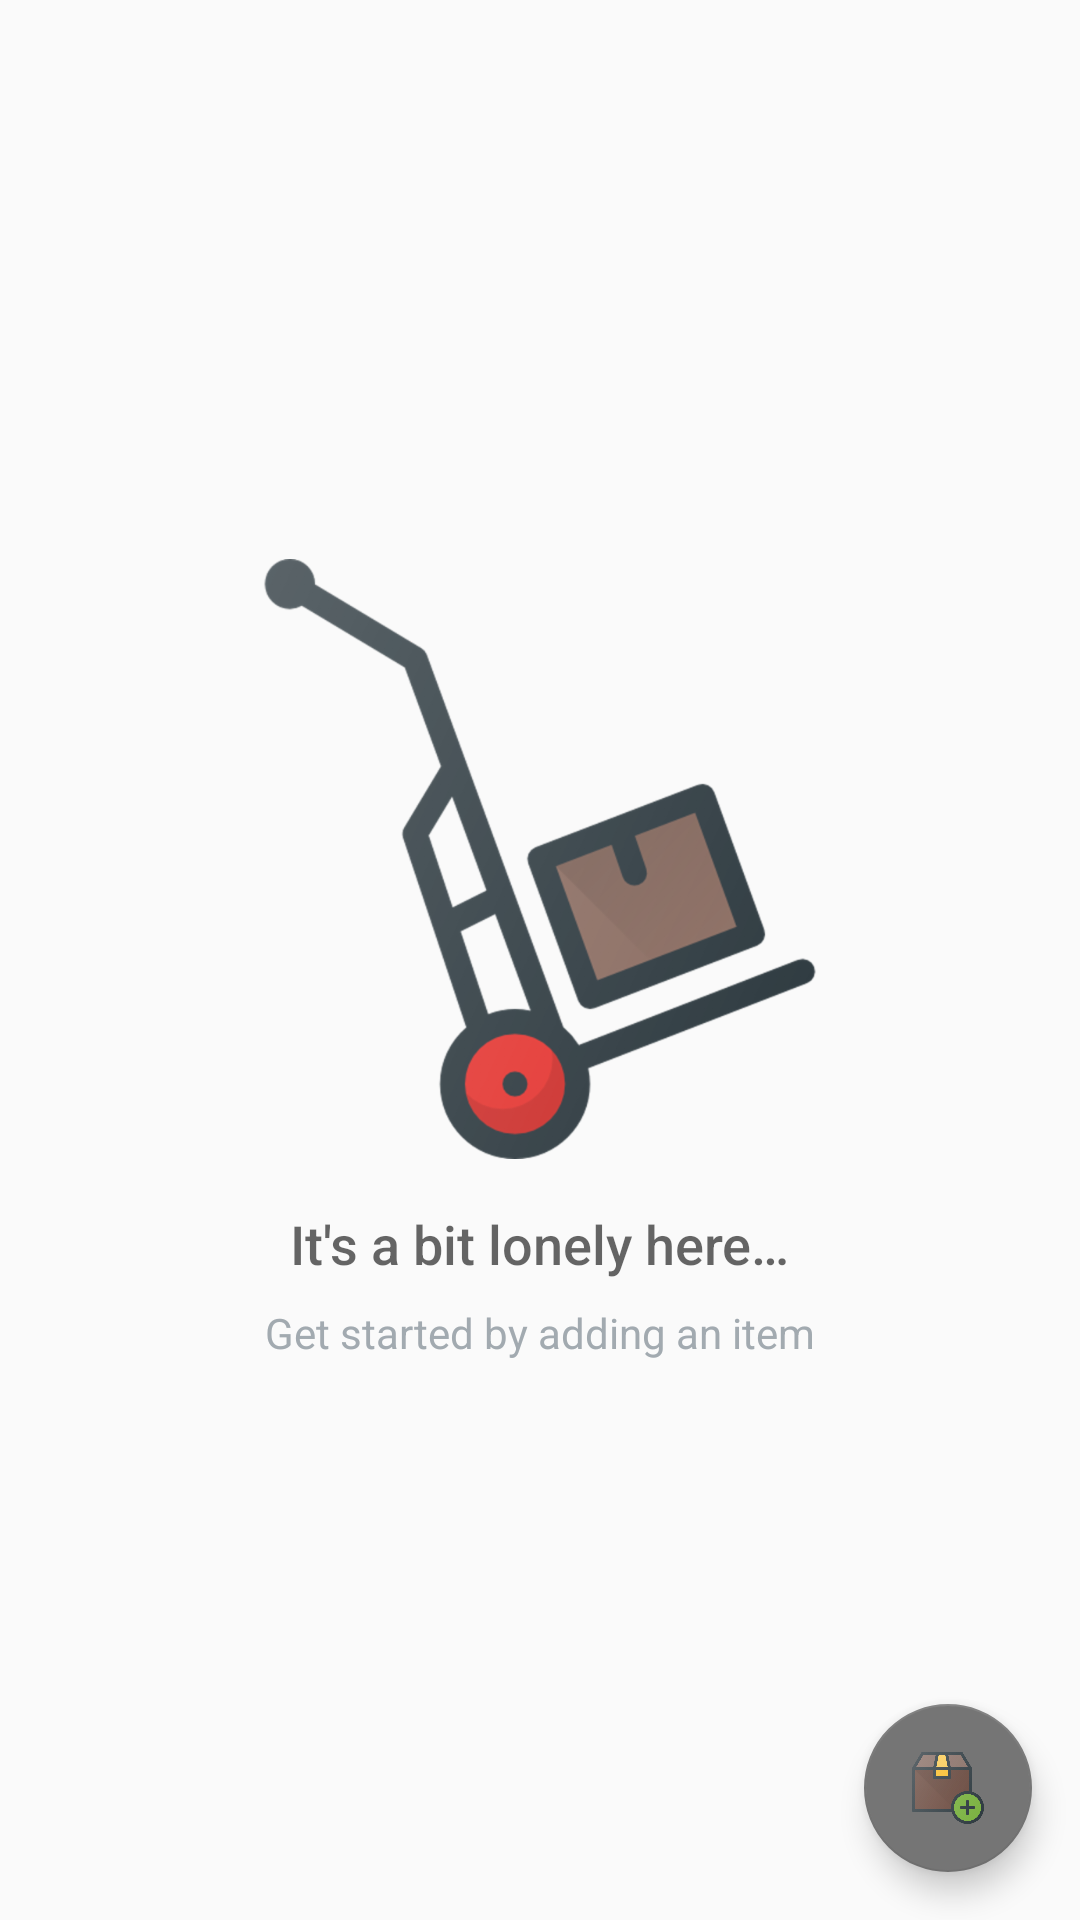

Named icons in this screenshot (1080 x 1920) and their centers, (x,y):
add item: (948,1788)
